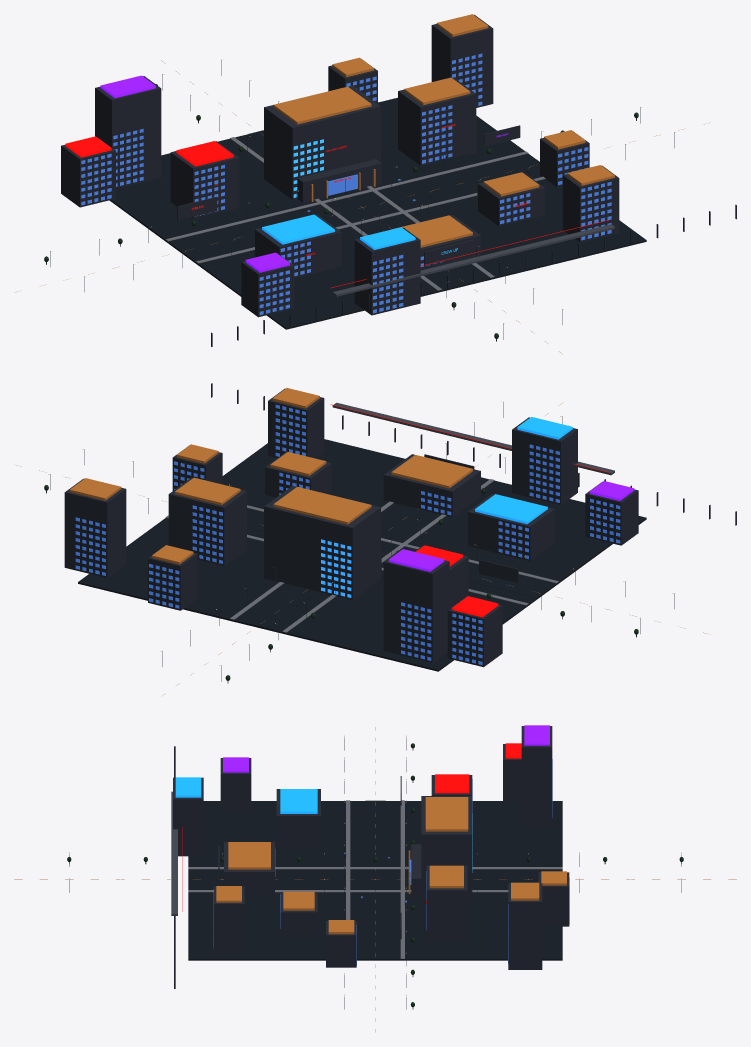
The model's file is BHC_CITY_MASTER_NIGHT.glb.
The picture shows the model from 3 angles, top to bottom: view 1: azimuth 30°, elevation 25°; view 2: azimuth 150°, elevation 25°; view 3: azimuth 270°, elevation 25°; orthographic projection. The views are drawn at different scales.
Visible parts, largest first — view 1: SM_BHC_CITY_Ground, BHC_CasinoTower_Core, BHC_DistrictBlock_Core.001, BHC_Hotel_Core, BHC_DistrictBlock_Core.007, BHC_DistrictBlock_Core.002, SM_BHC_CITY_Boulevard_EW, BHC_VIPTower_Core, BHC_DistrictBlock_Core.003, BHC_DistrictBlock_Core, BHC_ServiceDistrict_Core, BHC_DistrictBlock_Core.004 (+23 smaller); view 2: SM_BHC_CITY_Ground, BHC_CasinoTower_Core, BHC_DistrictBlock_Core.001, BHC_DistrictBlock_Core.002, BHC_Hotel_Core, BHC_DistrictBlock_Core.007, BHC_ServiceDistrict_Core, BHC_CrewGarage_Core, BHC_DistrictBlock_Core.003, BHC_DistrictBlock_Core, BHC_DistrictBlock_Core.004, BHC_DistrictBlock_Core.006 (+21 smaller); view 3: SM_BHC_CITY_Ground, SM_BHC_CITY_Boulevard_EW, BHC_DistrictBlock_Core.001, BHC_CasinoTower_Core, BHC_DistrictBlock_Core.002, BHC_Hotel_Core, SM_BHC_CITY_Boulevard_NS, BHC_DistrictBlock_Core.007, BHC_ServiceDistrict_Core, BHC_DistrictBlock_Core.003, BHC_CasinoTower_Crown, BHC_DistrictBlock_Core.004 (+19 smaller).
Boxes of the visible parts, box(x1,y1,x2,y2) form: SM_BHC_CITY_Ground: box(109, 97, 646, 329); BHC_CasinoTower_Core: box(264, 85, 380, 199); BHC_DistrictBlock_Core.001: box(95, 76, 161, 188); BHC_Hotel_Core: box(398, 77, 476, 165); BHC_DistrictBlock_Core.007: box(354, 227, 420, 315); BHC_DistrictBlock_Core.002: box(431, 14, 493, 107); SM_BHC_CITY_Boulevard_EW: box(176, 159, 539, 255); BHC_VIPTower_Core: box(170, 141, 239, 218); BHC_DistrictBlock_Core.003: box(563, 165, 619, 242); BHC_DistrictBlock_Core: box(61, 137, 115, 207); BHC_ServiceDistrict_Core: box(255, 214, 341, 277); BHC_DistrictBlock_Core.004: box(241, 253, 294, 317); SM_BHC_CITY_Ground: box(78, 439, 646, 671); BHC_CasinoTower_Core: box(264, 486, 380, 599); BHC_DistrictBlock_Core.001: box(383, 549, 449, 662); BHC_DistrictBlock_Core.002: box(64, 478, 126, 577); BHC_Hotel_Core: box(168, 477, 246, 565); BHC_DistrictBlock_Core.007: box(512, 417, 577, 504); BHC_ServiceDistrict_Core: box(468, 494, 554, 560); BHC_CrewGarage_Core: box(383, 454, 480, 517); BHC_DistrictBlock_Core.003: box(268, 388, 324, 458); BHC_DistrictBlock_Core: box(447, 596, 502, 667); BHC_DistrictBlock_Core.004: box(585, 481, 638, 545); BHC_DistrictBlock_Core.006: box(148, 546, 197, 610); SM_BHC_CITY_Ground: box(188, 801, 562, 960); SM_BHC_CITY_Boulevard_EW: box(365, 800, 385, 958); BHC_DistrictBlock_Core.001: box(521, 726, 552, 827); BHC_CasinoTower_Core: box(421, 796, 472, 899); BHC_DistrictBlock_Core.002: box(508, 883, 542, 969); BHC_Hotel_Core: box(426, 865, 467, 942); SM_BHC_CITY_Boulevard_NS: box(188, 875, 538, 884); BHC_DistrictBlock_Core.007: box(173, 777, 203, 856); BHC_ServiceDistrict_Core: box(276, 789, 320, 846); BHC_DistrictBlock_Core.003: box(214, 886, 244, 953); BHC_CasinoTower_Crown: box(425, 797, 468, 831); BHC_DistrictBlock_Core.004: box(220, 758, 251, 812).
Size of the model in its own units: 425 by 54.4 by 425.
